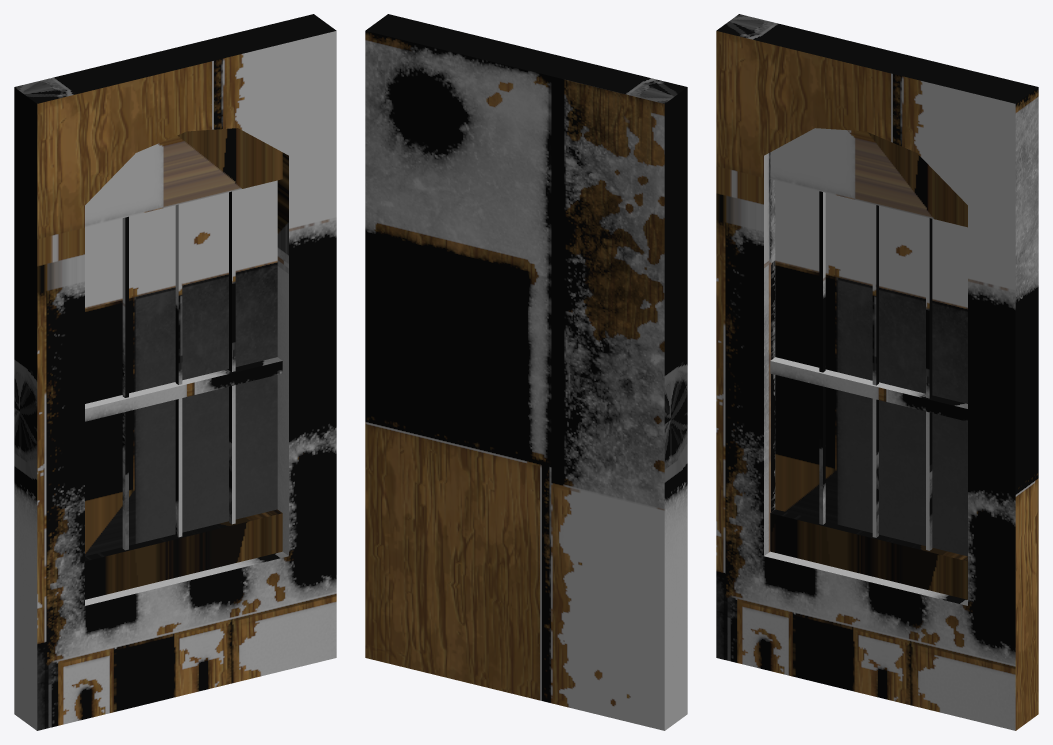
File: brick wall window.fbx
3 views of the same model, side by side, from view 1: azimuth 30°, elevation 25°; view 2: azimuth 150°, elevation 25°; view 3: azimuth 330°, elevation 25° (orthographic).
Visible parts, largest first — view 1: Cube.004; view 2: Cube.004; view 3: Cube.004.
Part boxes in pixels (box(x1,y1,x2,y2)): Cube.004: box(14, 14, 336, 730); Cube.004: box(365, 14, 687, 730); Cube.004: box(716, 14, 1038, 730).
Bounding box in the file's own units: 400 × 800 × 53.09.
